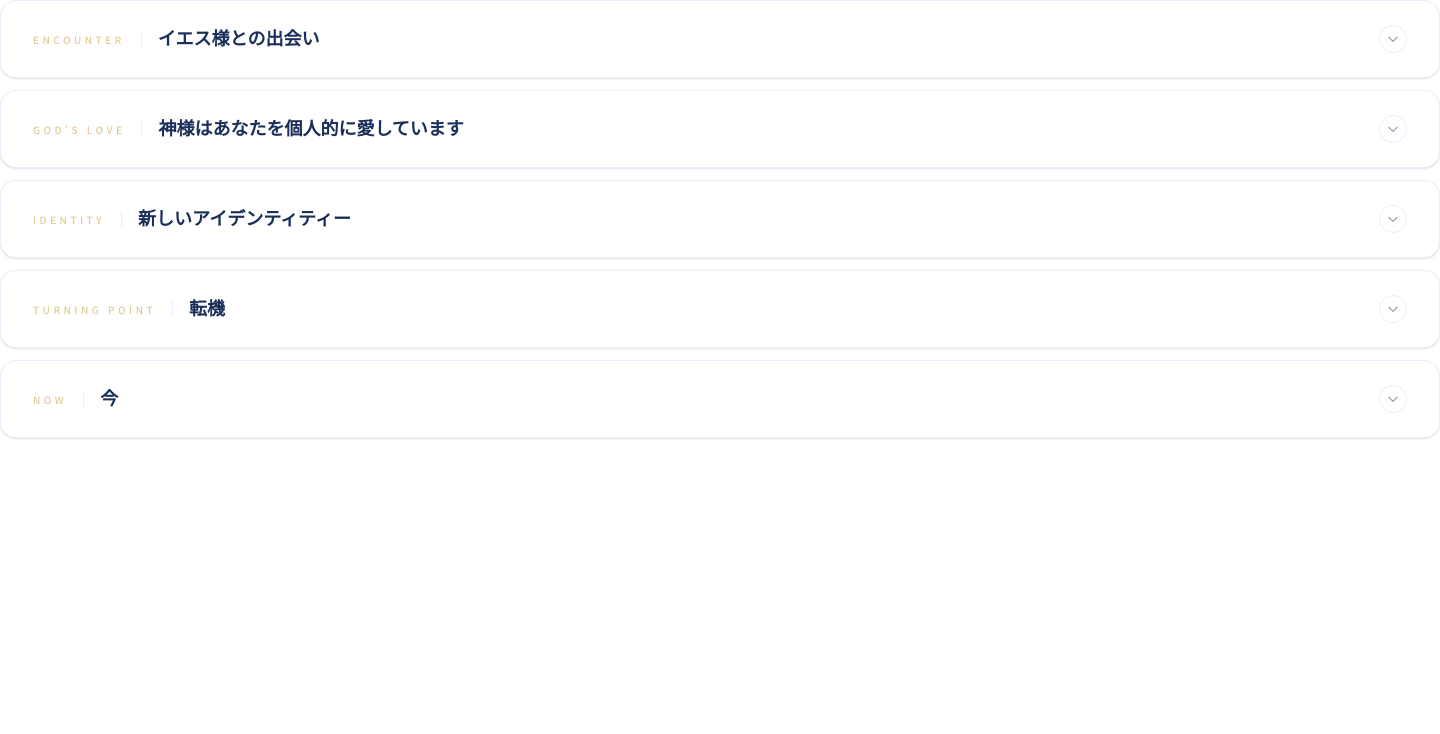
Test: JourneyAccordion › 別のアイテムをクリックすると前のアイテムが閉じる
Click the button "Encounter イエス様との出会い" at coordinates (79, 39), box [1,1,1439,77]
(page scrolled)
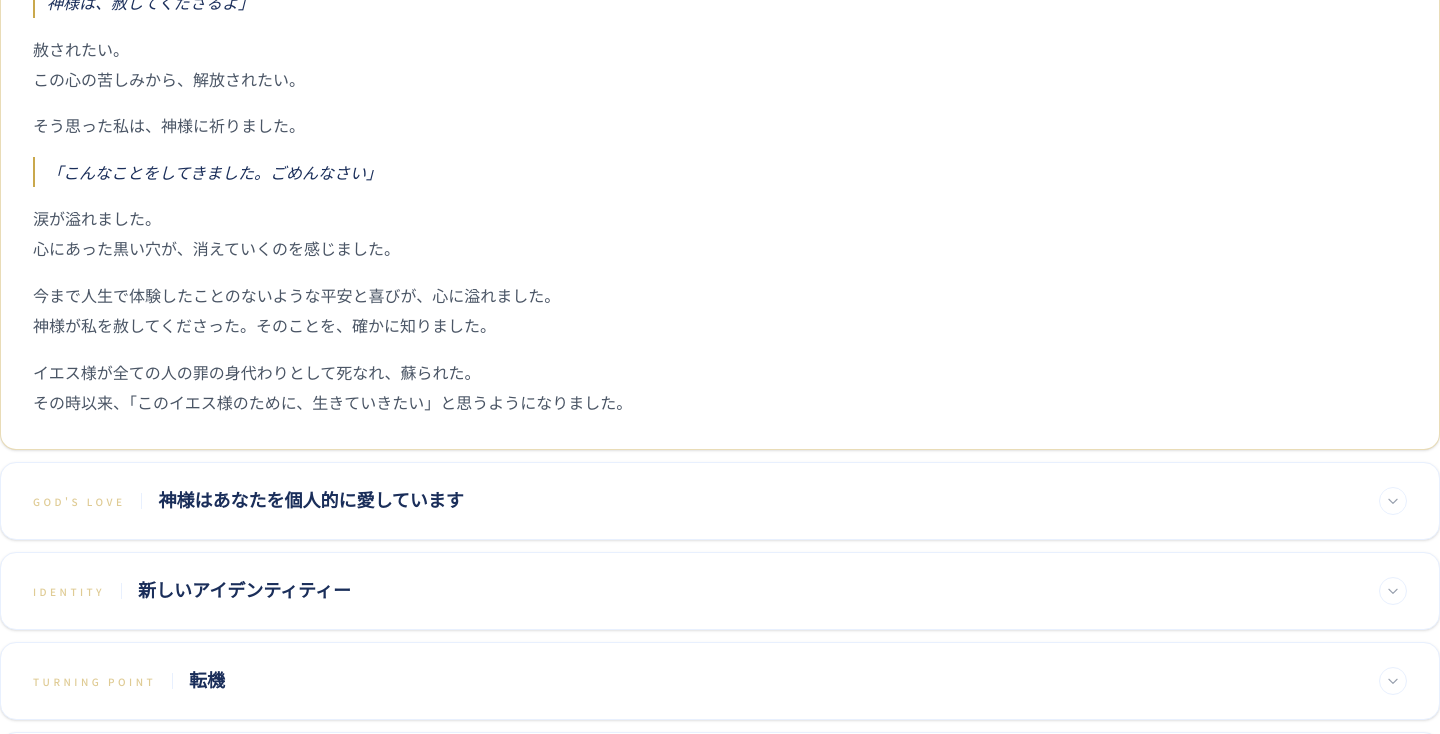
Click the button "God's Love 神様はあなたを個人的に愛しています" at coordinates (79, 501), box [1,463,1439,539]
(page scrolled)
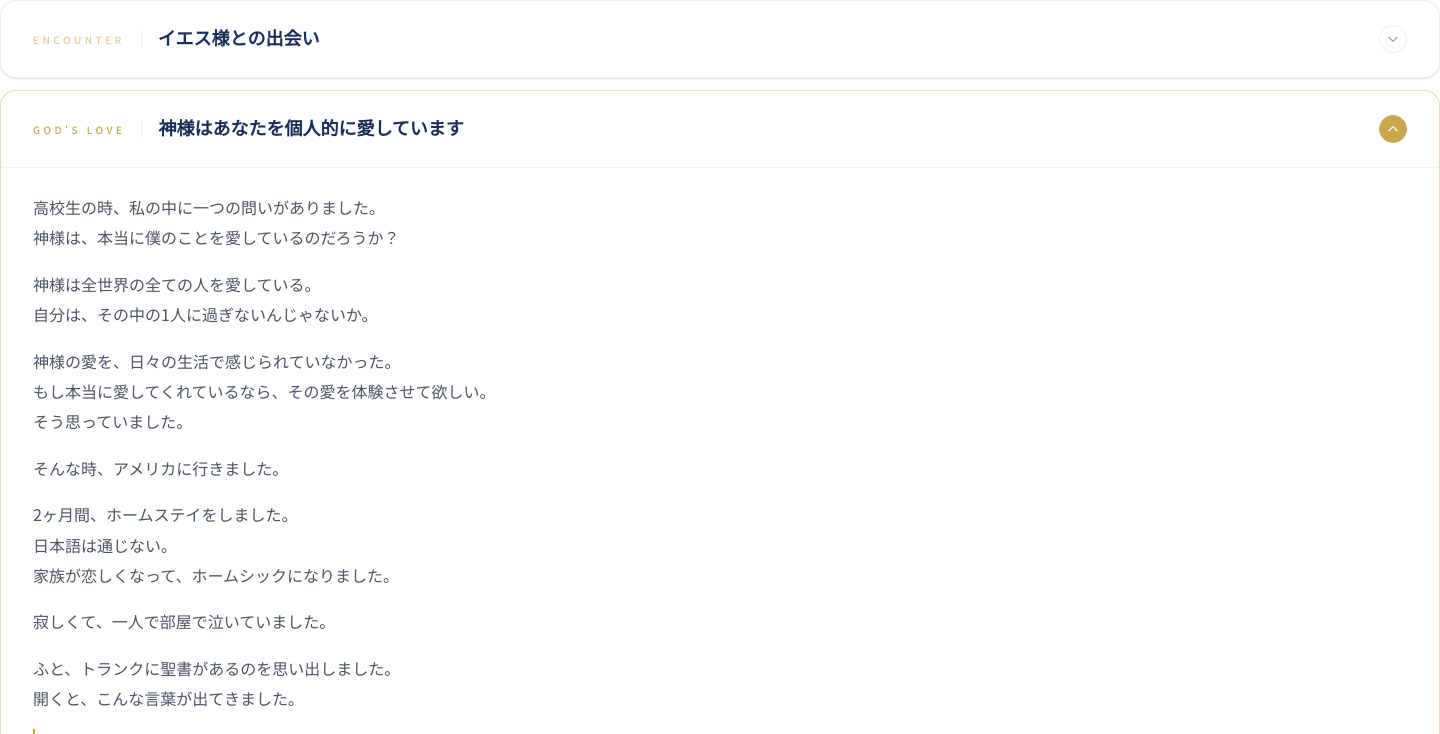
Expected: the button "Encounter イエス様との出会い" is collapsed, [1,1,1439,77]
Expected: the button "God's Love 神様はあなたを個人的に愛しています" is expanded, [1,91,1439,167]
